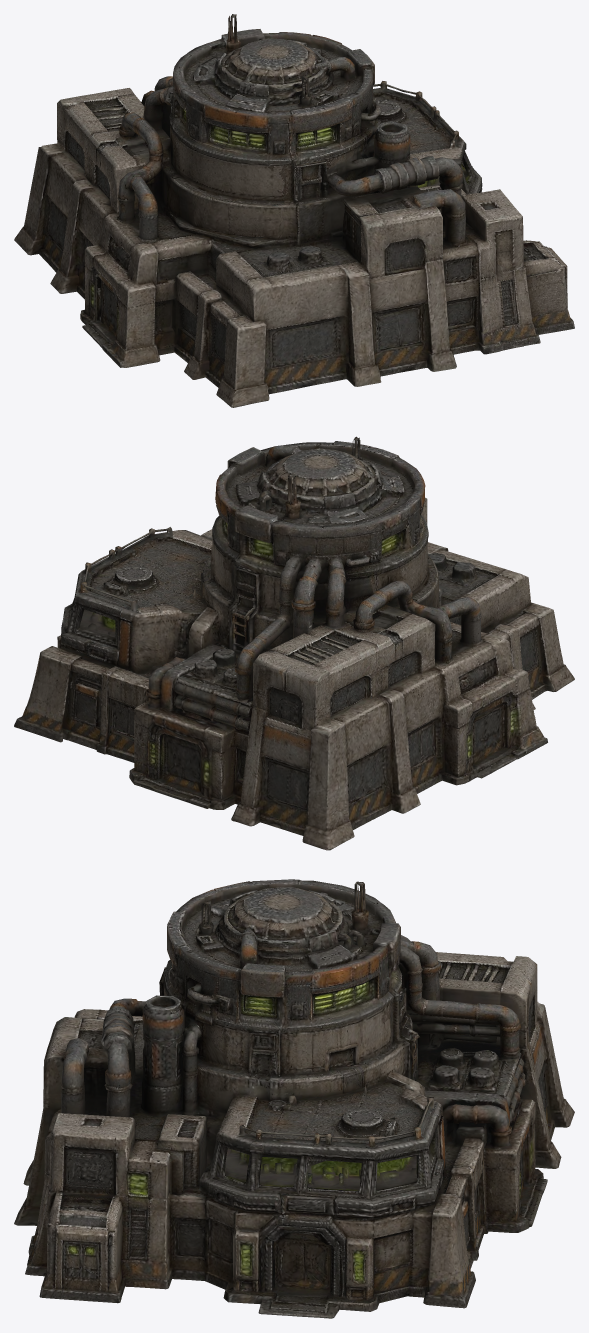
The model's file is tripo_convert_46296032-eb65-47a8-ba1a-e379105b39cd.fbx.
3 renders of one model, top to bottom at view 1: azimuth 30°, elevation 25°; view 2: azimuth 150°, elevation 25°; view 3: azimuth 270°, elevation 25°, orthographic. The views are drawn at different scales.
Visible parts, largest first — view 1: tripo_node_46296032; view 2: tripo_node_46296032; view 3: tripo_node_46296032.
Part boxes in pixels (x1,y1,x2,y2): tripo_node_46296032: [14, 14, 574, 407]; tripo_node_46296032: [14, 436, 574, 850]; tripo_node_46296032: [14, 879, 574, 1318].
Size of the model in its own units: 0.9764 by 0.5815 by 0.9805.
Materials: 1 (1 with a texture image).
